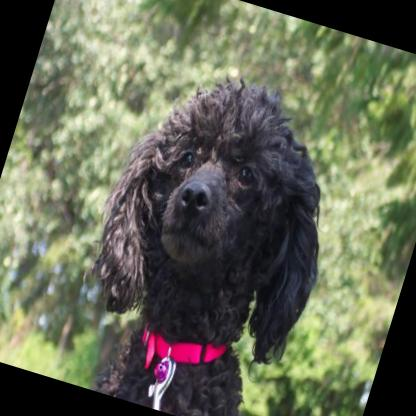miniature_poodle: (52, 51, 367, 416)
